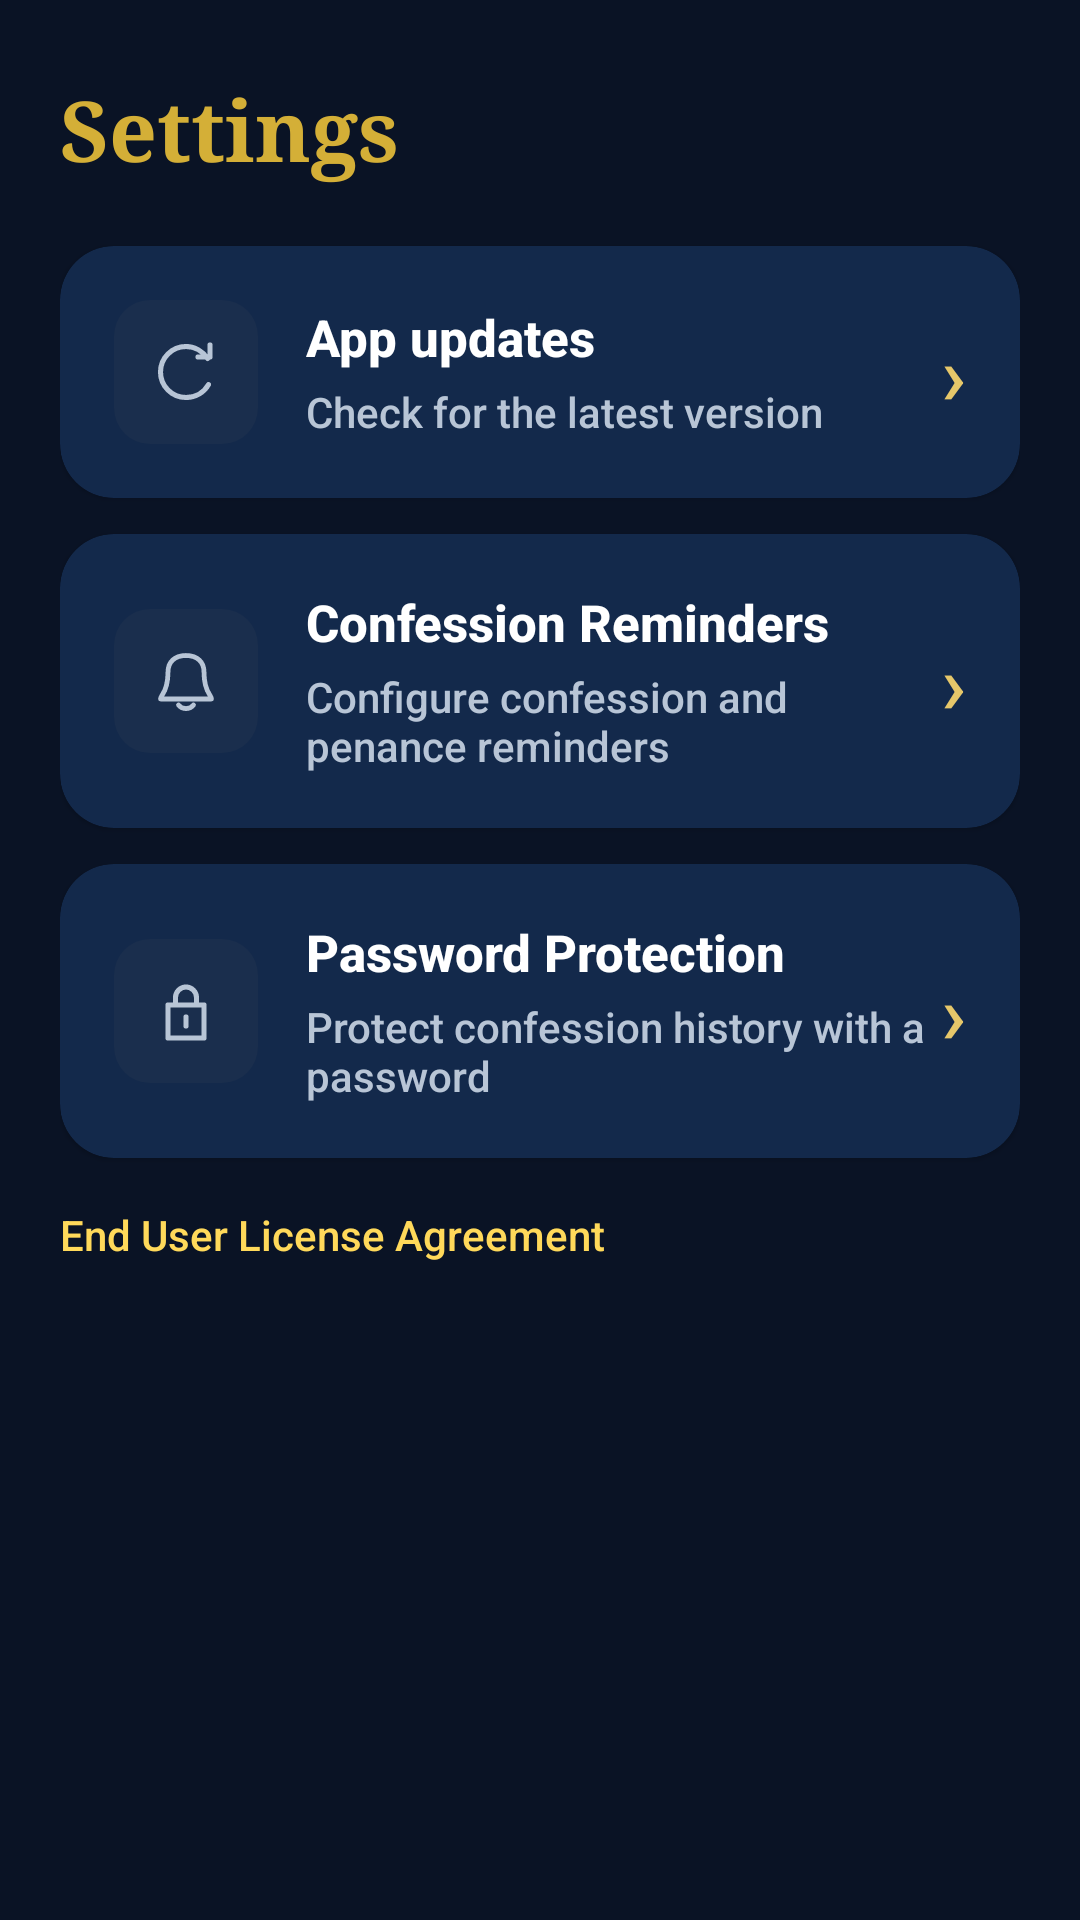

Icon bounding boxes for this 1080w x 1920h phone screenshot, format (x1, y1, x2, y2):
lock: (165, 984, 207, 1041)
